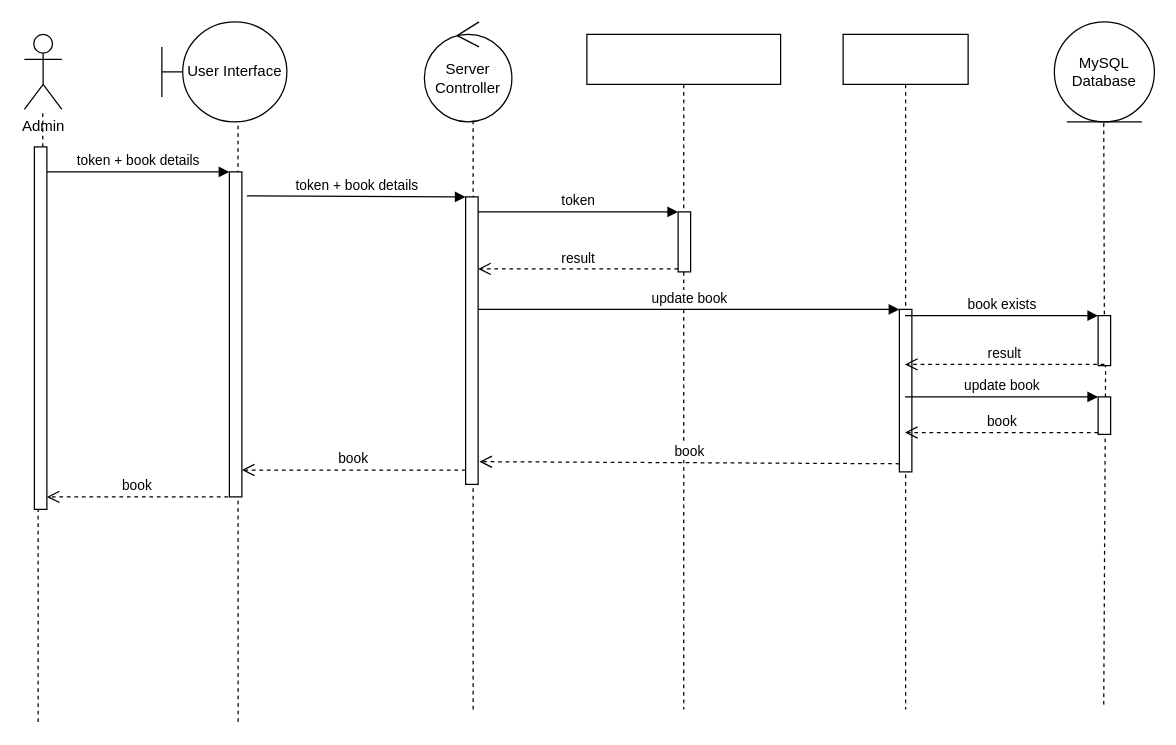
This 1176x745 diagram has some shape labels left out. Here are the shapes that lost their labels. From the top down, the box of each, then its label:
(586, 33, 781, 709): JWTAuthenticator
(842, 33, 968, 709): Book Management
